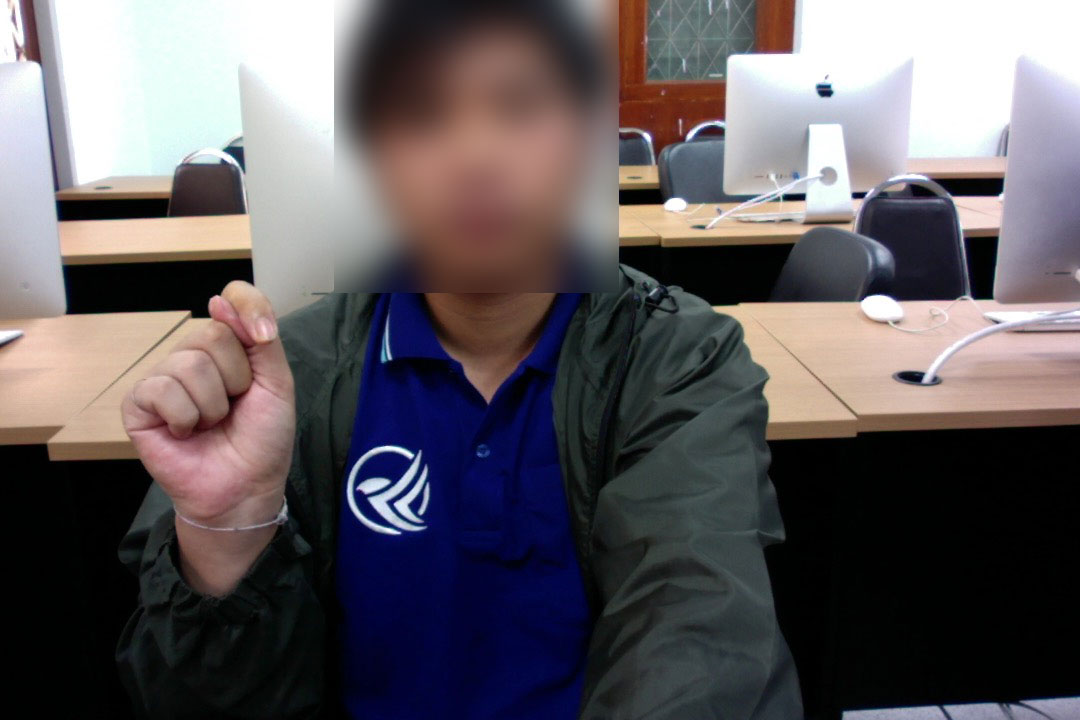tor: (117, 278, 299, 539)
